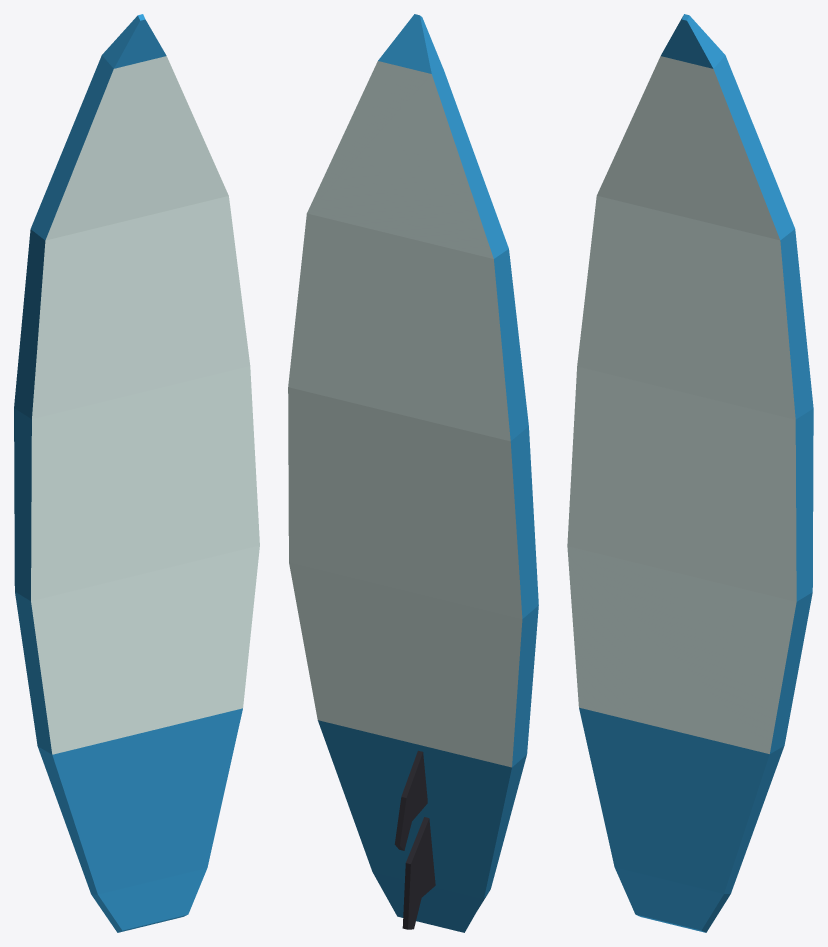
File: SurfingBoard_A.fbx
The picture shows the model from 3 angles, left to right: view 1: azimuth 30°, elevation 25°; view 2: azimuth 150°, elevation 25°; view 3: azimuth 330°, elevation 25°; orthographic projection.
Parts seen in each view (by area): view 1: SurfingBoard_A; view 2: SurfingBoard_A; view 3: SurfingBoard_A.
Part boxes in pixels (x1,y1,x2,y2): SurfingBoard_A: [14, 14, 259, 932]; SurfingBoard_A: [288, 14, 538, 932]; SurfingBoard_A: [567, 14, 813, 932].
Bounding box in the file's own units: 49.1 × 185 × 16.28.
